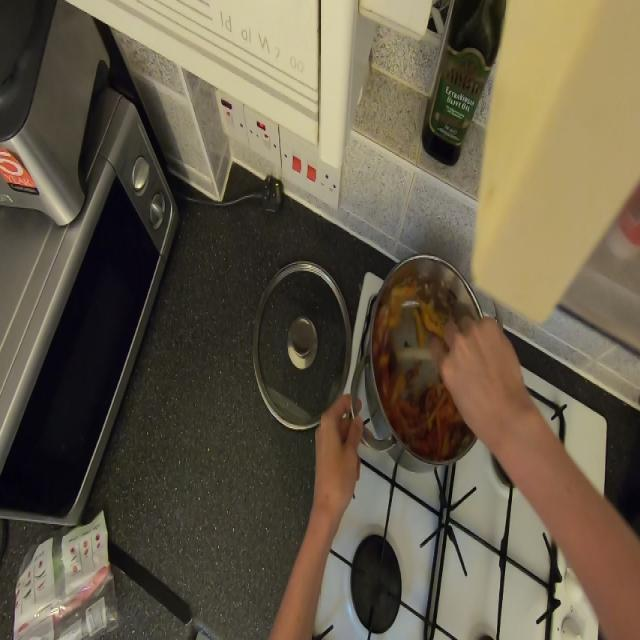hob: (358, 457, 536, 640)
left hand: (314, 392, 366, 546)
lid: (250, 261, 354, 424)
oil: (439, 0, 499, 179)
right hand: (435, 302, 552, 480)
